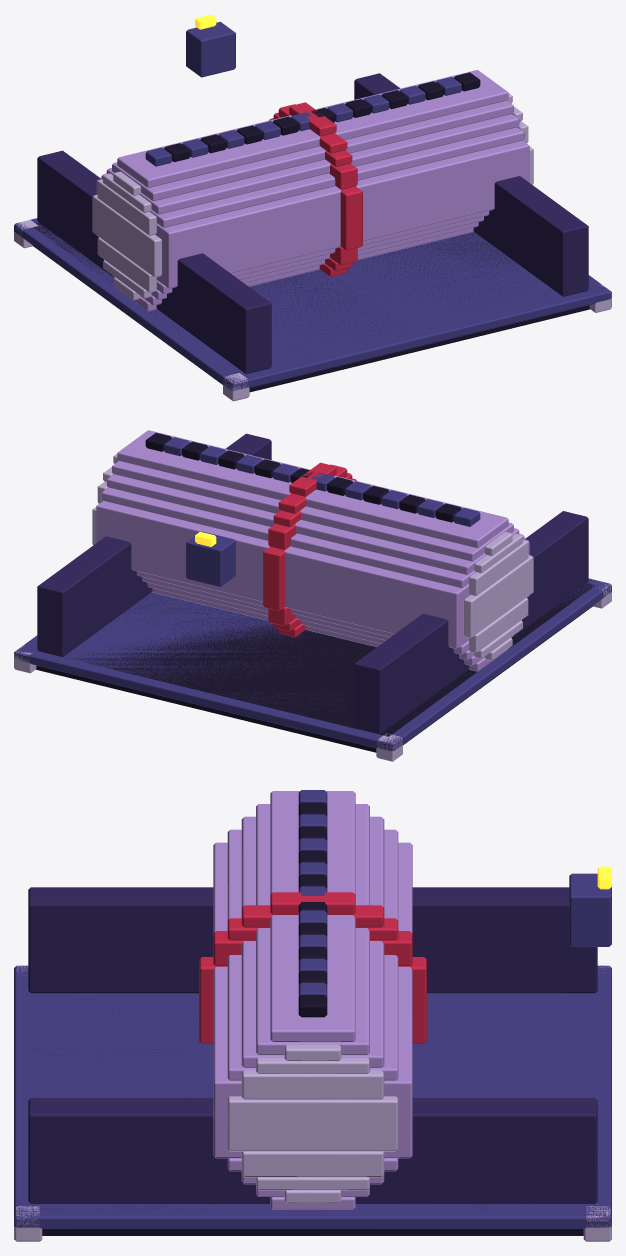
The model's file is fuel-tank.lg.glb.
3 renders of one model, top to bottom at view 1: azimuth 30°, elevation 25°; view 2: azimuth 150°, elevation 25°; view 3: azimuth 270°, elevation 25°, orthographic. The views are drawn at different scales.
Visible parts, largest first — view 1: fuel-tank.lg; view 2: fuel-tank.lg; view 3: fuel-tank.lg.
Boxes of the visible parts, x1,y1,x2,y2 form: fuel-tank.lg: (14,14,611,401); fuel-tank.lg: (14,430,611,761); fuel-tank.lg: (14,790,611,1241).
Bounding box in the file's own units: 2.62 × 1.19 × 2.62.
